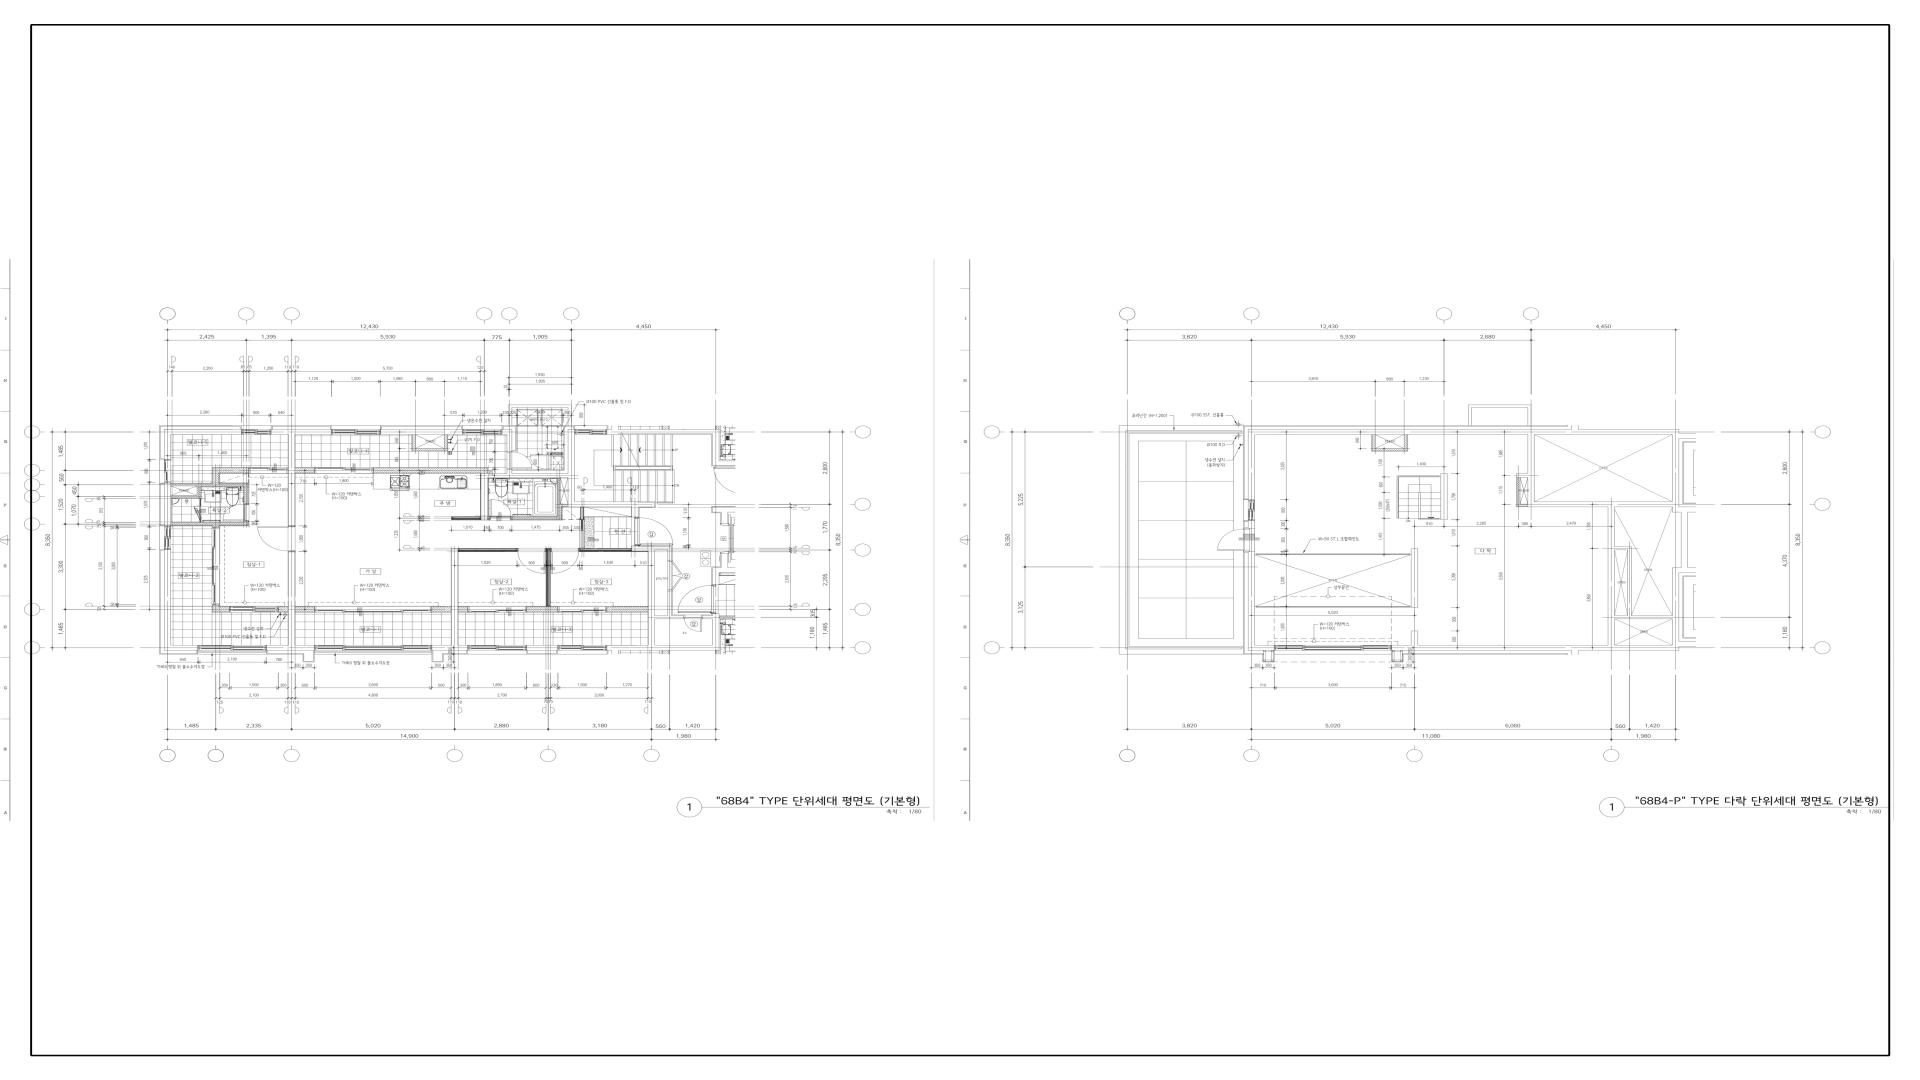door: (634, 517, 673, 546), (257, 526, 295, 553), (1217, 529, 1255, 551), (517, 549, 546, 574), (551, 549, 579, 574), (489, 500, 512, 521), (506, 451, 531, 469), (223, 504, 249, 521), (530, 455, 550, 469), (579, 520, 584, 549)
wall: (1254, 430, 1672, 435), (1120, 426, 1129, 654), (1391, 645, 1672, 650), (1607, 501, 1615, 645), (1129, 646, 1244, 654), (164, 550, 171, 650), (1247, 551, 1255, 650), (1126, 426, 1244, 433), (451, 549, 459, 645), (373, 467, 488, 473), (647, 551, 655, 645), (287, 553, 295, 645), (287, 435, 295, 526), (607, 430, 712, 435), (1247, 430, 1255, 500), (1528, 501, 1609, 508), (1527, 435, 1535, 501), (568, 430, 575, 506), (1672, 574, 1679, 650), (1672, 430, 1679, 501), (380, 430, 463, 435), (164, 430, 241, 435), (1411, 549, 1418, 608), (1681, 512, 1688, 567), (164, 483, 171, 526), (481, 473, 568, 477), (1614, 501, 1679, 506), (575, 502, 655, 506), (272, 430, 331, 435), (171, 522, 249, 526), (171, 483, 249, 487), (546, 549, 551, 607), (1441, 473, 1448, 520), (481, 477, 488, 521), (1627, 547, 1631, 616), (607, 607, 647, 613), (266, 645, 315, 650), (607, 645, 655, 650), (212, 467, 249, 473), (458, 549, 517, 553), (1615, 616, 1672, 620), (712, 430, 719, 462), (579, 549, 632, 553), (526, 607, 558, 613), (1257, 607, 1410, 608), (1257, 554, 1410, 555), (164, 435, 171, 460), (431, 645, 468, 650), (564, 426, 568, 473), (512, 517, 558, 521), (558, 477, 562, 521), (526, 645, 558, 650), (509, 405, 572, 407), (712, 506, 736, 513), (171, 645, 198, 650), (512, 471, 564, 473), (212, 605, 229, 613), (431, 607, 451, 613), (295, 467, 315, 473), (295, 607, 315, 613), (632, 546, 655, 551), (451, 517, 481, 521), (171, 495, 200, 498), (506, 430, 512, 451), (1672, 567, 1688, 574), (1255, 645, 1274, 650), (411, 448, 448, 451), (1411, 630, 1418, 645), (712, 462, 736, 465), (1373, 448, 1407, 451), (244, 487, 249, 504), (1672, 506, 1688, 512), (512, 430, 516, 451), (568, 407, 572, 426), (632, 506, 638, 517), (1518, 477, 1520, 504), (1247, 521, 1255, 529), (459, 607, 468, 613), (212, 473, 219, 483), (278, 607, 287, 613), (1396, 476, 1398, 518), (1398, 476, 1440, 477), (580, 506, 584, 520), (411, 435, 415, 448), (444, 435, 448, 448), (509, 407, 512, 426), (1516, 473, 1528, 477), (504, 426, 516, 430), (655, 547, 673, 550), (547, 452, 564, 455), (196, 487, 200, 496), (1614, 547, 1627, 550), (1404, 435, 1407, 448), (1373, 435, 1375, 448), (1518, 504, 1528, 506), (506, 469, 512, 473), (502, 430, 506, 435), (568, 426, 574, 430), (199, 498, 202, 506), (562, 504, 568, 506), (212, 526, 219, 527), (244, 521, 248, 522), (488, 517, 489, 520), (244, 504, 248, 504)
window: (315, 607, 433, 613), (314, 645, 433, 650), (1274, 645, 1391, 650), (212, 527, 220, 605), (468, 607, 526, 613), (315, 467, 373, 473), (198, 645, 266, 650), (229, 607, 278, 613), (468, 645, 526, 650), (331, 430, 381, 435), (558, 645, 607, 650), (558, 607, 607, 612), (249, 467, 287, 473), (463, 430, 502, 435), (164, 526, 171, 550), (164, 460, 171, 483), (1247, 500, 1255, 521), (575, 430, 607, 435), (241, 430, 272, 435)
